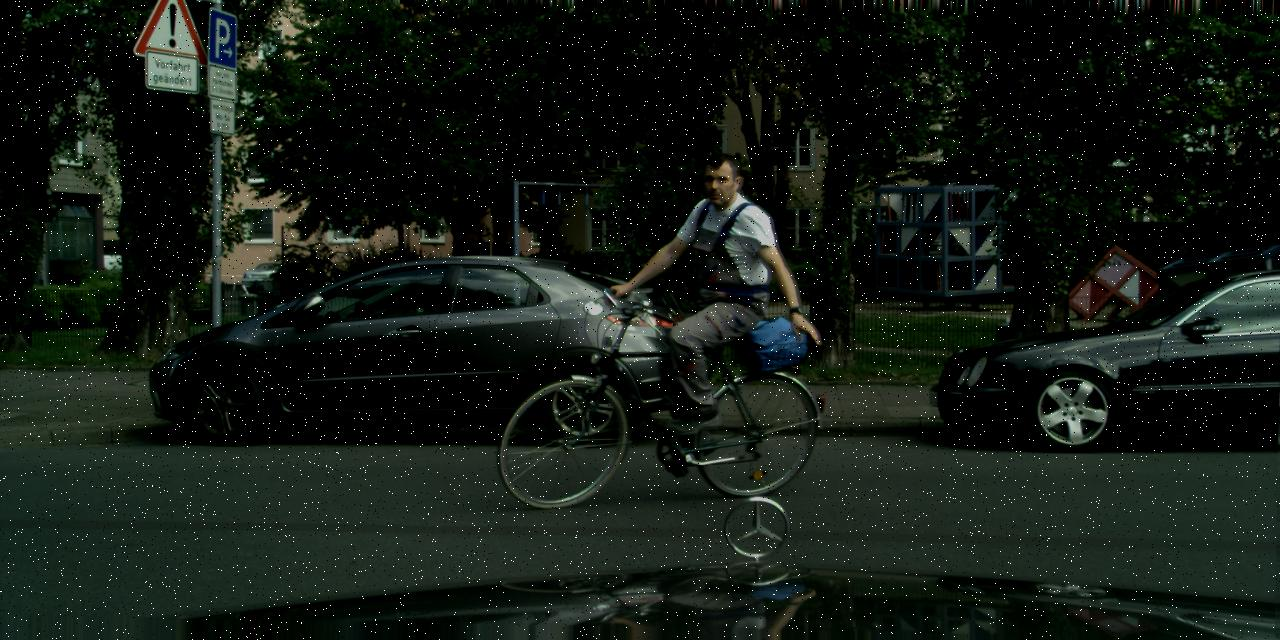ped: (650, 153, 769, 443)
